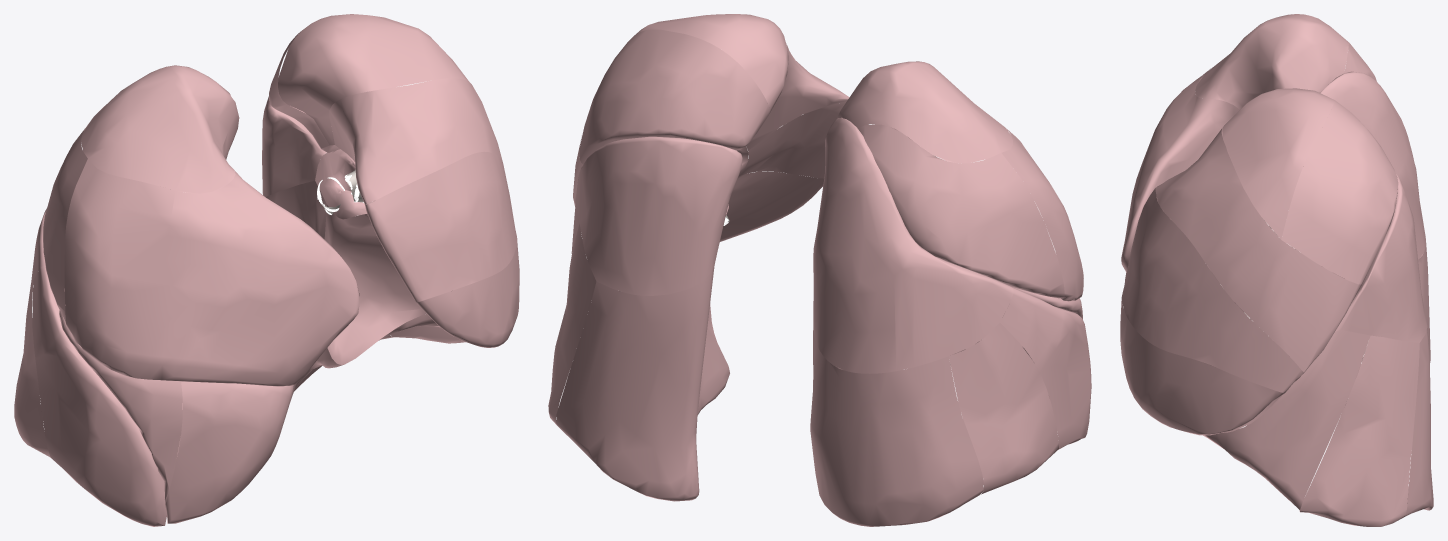
File: lung-female.lod1.glb
The picture shows the model from 3 angles, left to right: view 1: azimuth 30°, elevation 25°; view 2: azimuth 150°, elevation 25°; view 3: azimuth 270°, elevation 25°; orthographic projection. The views are drawn at different scales.
Visible parts, largest first — view 1: VH_F_right_anterior_bronchopulmonary_segm, VH_F_right_anterior_basal_bronchopulmonary_segment, VH_F_lingula_superior_bronchopulmonary_segment, VH_F_right_apical_bronchopulmonary_segment, VH_F_left_anterior_bronchopulmonary_segment, VH_F_left_apical_bronchopulmonary_segment, VH_F_right_medial_bronchopulmonary_segment, VH_F_left_medial_basal_bronchopulmonary_segment, VH_F_lingula_inferior_bronchopulmonary_segment, VH_F_right_lateral_bronchopulmonary_segmennt, VH_F_left_superior_bronchopulmonary_segment, VH_F_right_posterior_bronchopulmonary_segment (+6 smaller); view 2: VH_F_right_superior_bronchopulmonary_segment, VH_F_left_posterior_basal_bronchopulmonary_segment, VH_F_right_posterior_basal_bronchopulmonary_segment, VH_F_left_superior_bronchopulmonary_segment, VH_F_right_posterior_bronchopulmonary_segment, VH_F_left_posterior_bronchopulmonary_segment, VH_F_right_lateral_basal_bronchopulmonary_segment, VH_F_right_apical_bronchopulmonary_segment, VH_F_right_anterior_basal_bronchopulmonary_segment, VH_F_left_apical_bronchopulmonary_segment, VH_F_lingula_inferior_bronchopulmonary_segment, VH_F_lingula_superior_bronchopulmonary_segment (+3 smaller); view 3: VH_F_left_anterior_bronchopulmonary_segment, VH_F_lingula_superior_bronchopulmonary_segment, VH_F_left_lateral_basal_bronchopulmonary_segment, VH_F_left_posterior_bronchopulmonary_segment, VH_F_left_anterior_basal_bronchopulmonary_segment, VH_F_lingula_inferior_bronchopulmonary_segment, VH_F_left_apical_bronchopulmonary_segment, VH_F_right_apical_bronchopulmonary_segment, VH_F_left_superior_bronchopulmonary_segment, VH_F_right_anterior_bronchopulmonary_segm, VH_F_right_superior_bronchopulmonary_segment, VH_F_left_posterior_basal_bronchopulmonary_segment (+2 smaller).
Boxes of the visible parts, x1,y1,x2,y2 form: VH_F_right_anterior_bronchopulmonary_segm: (64, 159, 359, 386); VH_F_right_anterior_basal_bronchopulmonary_segment: (32, 265, 182, 526); VH_F_lingula_superior_bronchopulmonary_segment: (365, 151, 517, 302); VH_F_right_apical_bronchopulmonary_segment: (81, 65, 239, 193); VH_F_left_anterior_bronchopulmonary_segment: (329, 78, 502, 204); VH_F_left_apical_bronchopulmonary_segment: (278, 14, 468, 145); VH_F_right_medial_bronchopulmonary_segment: (164, 381, 293, 523); VH_F_left_medial_basal_bronchopulmonary_segment: (324, 205, 426, 364); VH_F_lingula_inferior_bronchopulmonary_segment: (416, 242, 519, 347); VH_F_right_lateral_bronchopulmonary_segmennt: (59, 288, 182, 499); VH_F_left_superior_bronchopulmonary_segment: (262, 96, 326, 197); VH_F_right_posterior_bronchopulmonary_segment: (43, 129, 87, 325); VH_F_right_superior_bronchopulmonary_segment: (813, 117, 1013, 373); VH_F_left_posterior_basal_bronchopulmonary_segment: (556, 265, 729, 501); VH_F_right_posterior_basal_bronchopulmonary_segment: (810, 328, 983, 526); VH_F_left_superior_bronchopulmonary_segment: (576, 136, 742, 295); VH_F_right_posterior_bronchopulmonary_segment: (858, 124, 1064, 298); VH_F_left_posterior_bronchopulmonary_segment: (579, 29, 769, 164); VH_F_right_lateral_basal_bronchopulmonary_segment: (949, 323, 1058, 494); VH_F_right_apical_bronchopulmonary_segment: (837, 61, 1012, 163); VH_F_right_anterior_basal_bronchopulmonary_segment: (980, 287, 1091, 449); VH_F_left_apical_bronchopulmonary_segment: (634, 14, 788, 113); VH_F_lingula_inferior_bronchopulmonary_segment: (720, 171, 823, 241); VH_F_lingula_superior_bronchopulmonary_segment: (739, 101, 846, 178); VH_F_left_anterior_bronchopulmonary_segment: (1155, 129, 1361, 372); VH_F_lingula_superior_bronchopulmonary_segment: (1121, 188, 1304, 393); VH_F_left_lateral_basal_bronchopulmonary_segment: (1300, 335, 1419, 526); VH_F_left_posterior_bronchopulmonary_segment: (1281, 100, 1398, 284); VH_F_left_anterior_basal_bronchopulmonary_segment: (1203, 330, 1370, 511); VH_F_lingula_inferior_bronchopulmonary_segment: (1120, 299, 1284, 435); VH_F_left_apical_bronchopulmonary_segment: (1222, 88, 1334, 239); VH_F_right_apical_bronchopulmonary_segment: (1195, 14, 1349, 109); VH_F_left_superior_bronchopulmonary_segment: (1335, 173, 1427, 342); VH_F_right_anterior_bronchopulmonary_segm: (1121, 68, 1242, 272); VH_F_right_superior_bronchopulmonary_segment: (1320, 71, 1425, 259); VH_F_left_posterior_basal_bronchopulmonary_segment: (1405, 328, 1433, 516).
Bounding box in the file's own units: 0.2509 × 0.223 × 0.1526.
